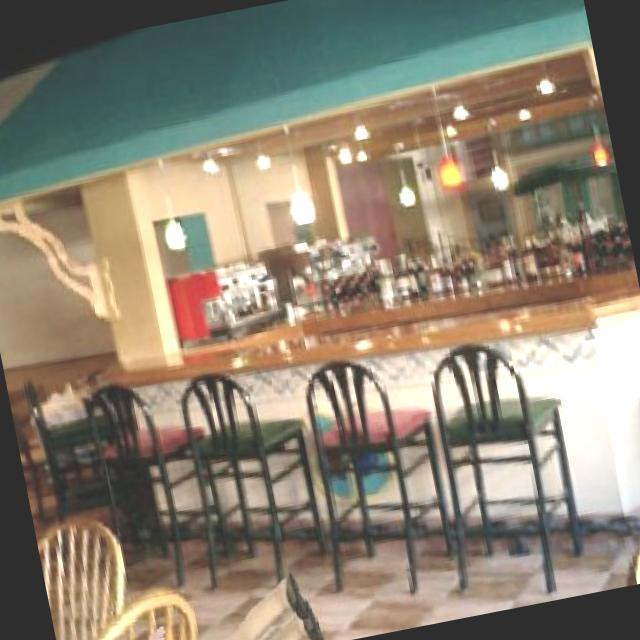Person: (99, 563, 330, 640)
